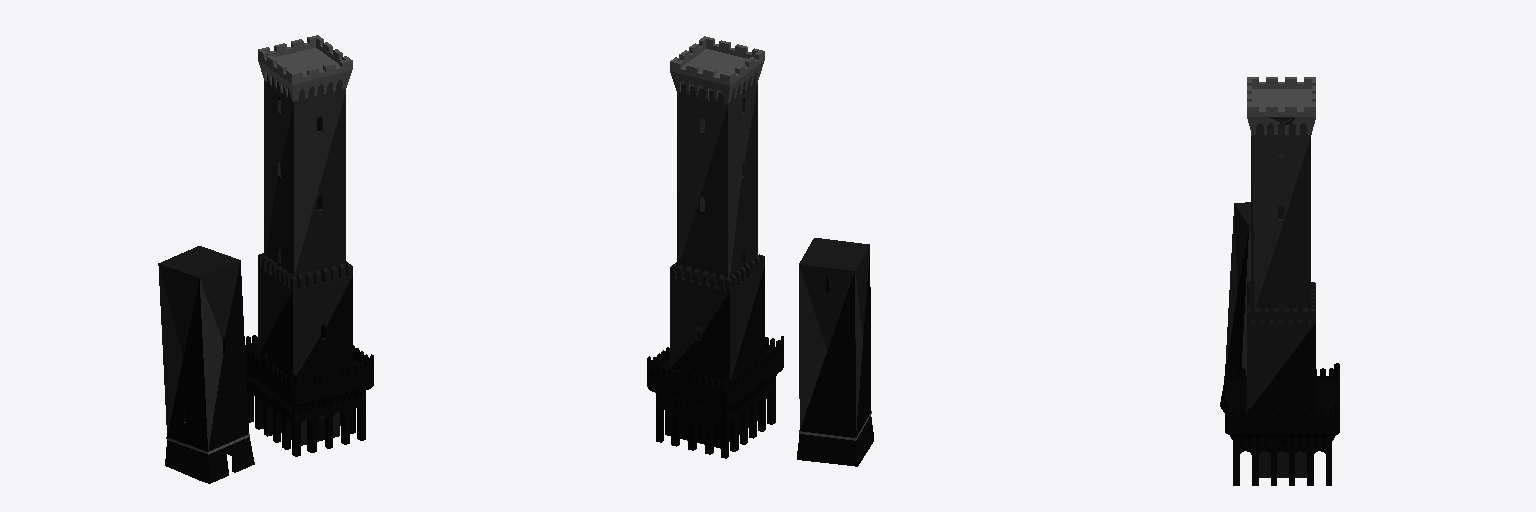
The model's file is Torri.obj.
3 renders of one model, left to right at view 1: azimuth 30°, elevation 25°; view 2: azimuth 150°, elevation 25°; view 3: azimuth 270°, elevation 25°, orthographic.
Visible parts, largest first — view 1: Torri Gigatorre, MiniTorre Torri; view 2: Torri Gigatorre, MiniTorre Torri; view 3: Torri Gigatorre, MiniTorre Torri.
Part boxes in pixels (x1,y1,x2,y2): Torri Gigatorre: (245,35,373,456); MiniTorre Torri: (158,246,254,483); Torri Gigatorre: (647,36,783,458); MiniTorre Torri: (797,238,873,466); Torri Gigatorre: (1225,77,1339,485); MiniTorre Torri: (1220,202,1250,412).
Size of the model in its own units: 6.69 by 13.02 by 3.78.